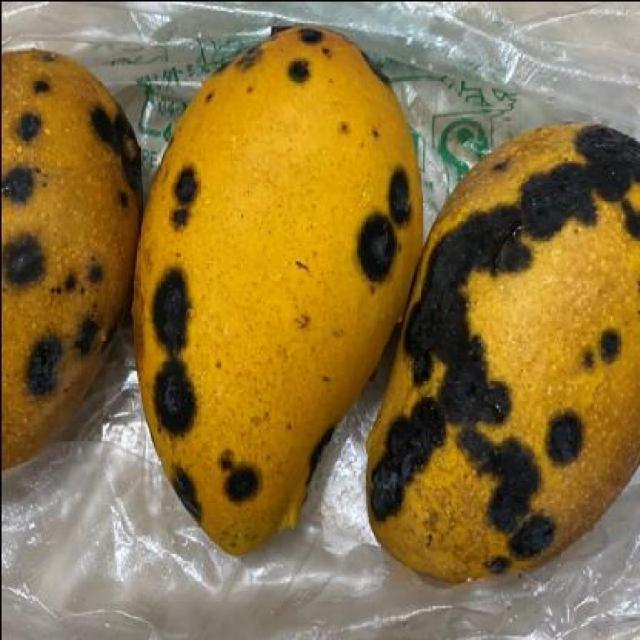Mango: (152, 26, 412, 525), (375, 129, 640, 583), (2, 51, 132, 447)
